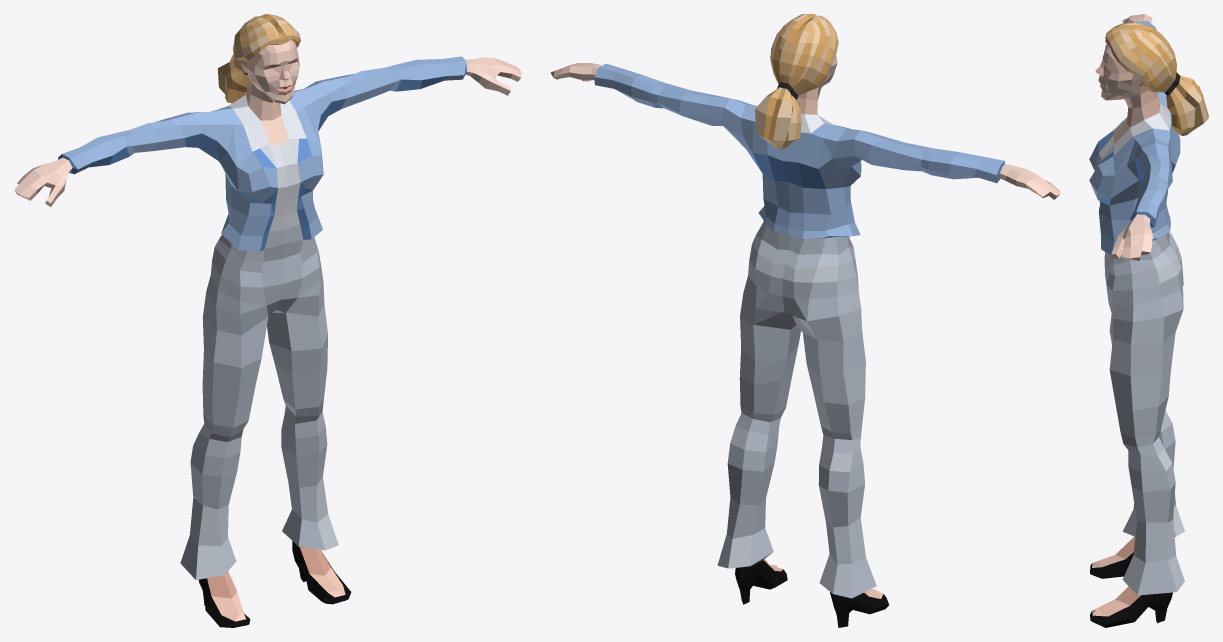
File: office_Female_B-model.fbx
The picture shows the model from 3 angles, left to right: view 1: azimuth 30°, elevation 25°; view 2: azimuth 150°, elevation 25°; view 3: azimuth 270°, elevation 25°; orthographic projection. The views are drawn at different scales.
Visible parts, largest first — view 1: office_Female_B, acc_hair_blond_fringes; view 2: office_Female_B, acc_hair_blond_fringes; view 3: office_Female_B, acc_hair_blond_fringes.
Boxes of the visible parts, x1,y1,x2,y2 form: office_Female_B: (14,40,521,627); acc_hair_blond_fringes: (217,14,300,103); office_Female_B: (550,55,1060,627); acc_hair_blond_fringes: (755,14,838,149); office_Female_B: (1089,14,1184,627); acc_hair_blond_fringes: (1105,22,1208,135).
Size of the model in its own units: 154 by 170 by 32.28.
Materials: 1 (1 with a texture image).
